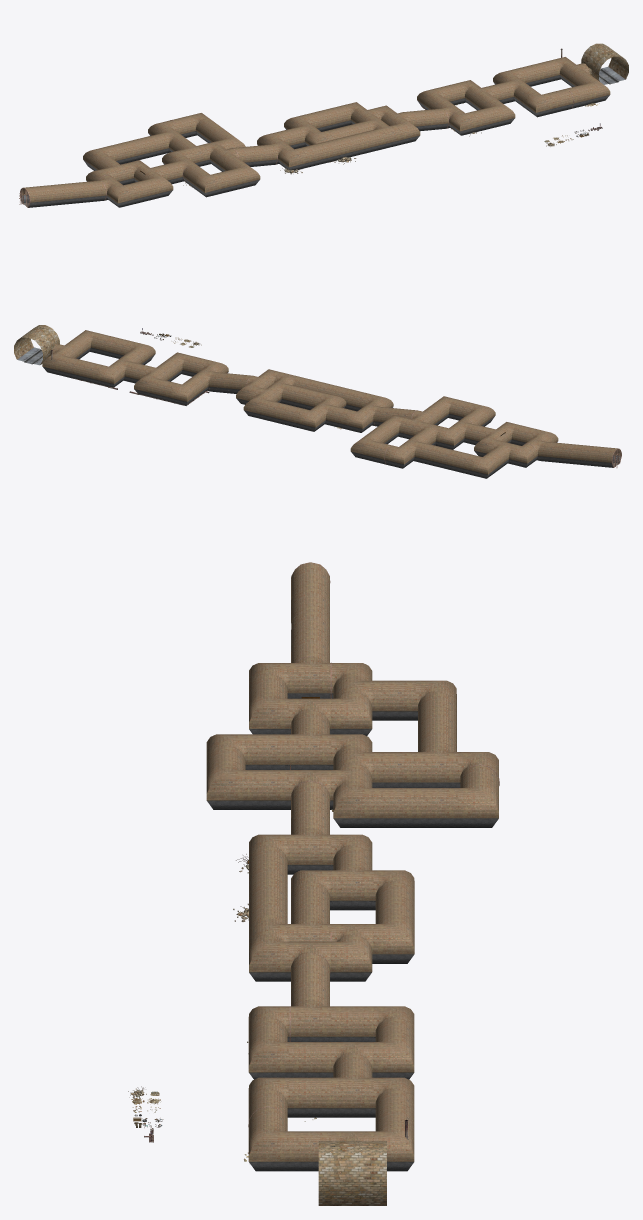
3 renders of one model, top to bottom at view 1: azimuth 30°, elevation 25°; view 2: azimuth 150°, elevation 25°; view 3: azimuth 270°, elevation 25°, orthographic. The views are drawn at different scales.
Visible parts, largest first — view 1: Serwers_007_brick_modern_01_0.001, SerwersP1_004_brick_modern_0.025, SerwersP1_004_brick_modern_0.003, SerwersP1_004_brick_modern_0.018, SerwersP1_004_brick_modern_0.008, SerwersP1_004_brick_modern_0.023, SerwersP1_003_brick_modern_0.014, SerwersP1_003_brick_modern_0.020, SerwersP1_003_brick_modern_0.016, SerwersP1_005_brick_modern_0.010; view 2: Serwers_007_brick_modern_01_0.001, SerwersP1_004_brick_modern_0.004, SerwersP1_004_brick_modern_0.024, SerwersP1_004_brick_modern_0.027, SerwersP1_004_brick_modern_0.016, SerwersP1_004_brick_modern_0.022, SerwersP1_004_brick_modern_0.009, SerwersP1_004_brick_modern_0.015, SerwersP1_004_brick_modern_0.029, SerwersP1_003_brick_modern_0.015, SerwersP1_005_brick_modern_0.010; view 3: Serwers_007_brick_modern_01_0.001, SerwersP1_003_brick_modern_0.003, SerwersP1_003_brick_modern_0.009, SerwersP1_003_brick_modern_0.017, SerwersP1_003_brick_modern_0.010, SerwersP1_003_brick_modern_0.005, SerwersP1_003_brick_modern_0.012, SerwersP1_003_brick_modern_0.019, SerwersP1_004_brick_modern_0.010, SerwersP1_004_brick_modern_0.019, SerwersP1_004_brick_modern_0.006, SerwersP1_004_brick_modern_0.011 (+27 smaller).
Part boxes in pixels (left/top/right/bottom): Serwers_007_brick_modern_01_0.001: left=581, top=43, right=628, bottom=81; SerwersP1_004_brick_modern_0.025: left=107, top=183, right=136, bottom=203; SerwersP1_004_brick_modern_0.003: left=525, top=92, right=554, bottom=112; SerwersP1_004_brick_modern_0.018: left=278, top=147, right=307, bottom=167; SerwersP1_004_brick_modern_0.008: left=449, top=111, right=478, bottom=131; SerwersP1_004_brick_modern_0.023: left=194, top=172, right=222, bottom=192; SerwersP1_003_brick_modern_0.014: left=375, top=124, right=402, bottom=144; SerwersP1_003_brick_modern_0.020: left=106, top=162, right=133, bottom=181; SerwersP1_003_brick_modern_0.016: left=182, top=143, right=209, bottom=163; SerwersP1_005_brick_modern_0.010: left=20, top=186, right=49, bottom=202; Serwers_007_brick_modern_01_0.001: left=14, top=325, right=59, bottom=364; SerwersP1_004_brick_modern_0.004: left=96, top=364, right=124, bottom=383; SerwersP1_004_brick_modern_0.024: left=436, top=426, right=464, bottom=445; SerwersP1_004_brick_modern_0.027: left=509, top=444, right=537, bottom=463; SerwersP1_004_brick_modern_0.016: left=345, top=409, right=372, bottom=428; SerwersP1_004_brick_modern_0.022: left=386, top=445, right=414, bottom=464; SerwersP1_004_brick_modern_0.009: left=170, top=382, right=197, bottom=401; SerwersP1_004_brick_modern_0.015: left=298, top=408, right=325, bottom=427; SerwersP1_004_brick_modern_0.029: left=470, top=455, right=497, bottom=474; SerwersP1_003_brick_modern_0.015: left=400, top=417, right=425, bottom=435; SerwersP1_005_brick_modern_0.010: left=593, top=447, right=621, bottom=462; Serwers_007_brick_modern_01_0.001: left=318, top=1141, right=386, bottom=1205; SerwersP1_003_brick_modern_0.003: left=331, top=1070, right=373, bottom=1108; SerwersP1_003_brick_modern_0.009: left=416, top=745, right=458, bottom=782; SerwersP1_003_brick_modern_0.017: left=289, top=727, right=331, bottom=764; SerwersP1_003_brick_modern_0.010: left=331, top=863, right=373, bottom=900; SerwersP1_003_brick_modern_0.005: left=289, top=999, right=331, bottom=1036; SerwersP1_003_brick_modern_0.012: left=289, top=827, right=331, bottom=864; SerwersP1_003_brick_modern_0.019: left=289, top=656, right=330, bottom=693; SerwersP1_004_brick_modern_0.010: left=331, top=934, right=372, bottom=972; SerwersP1_004_brick_modern_0.019: left=206, top=763, right=247, bottom=800; SerwersP1_004_brick_modern_0.006: left=248, top=1035, right=289, bottom=1072; SerwersP1_004_brick_modern_0.011: left=249, top=934, right=289, bottom=972.
Size of the model in its own units: 134 by 21.07 by 38.25.
Materials: 361 (354 with a texture image).
